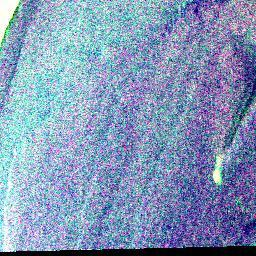Ship: (207, 163, 226, 186)
